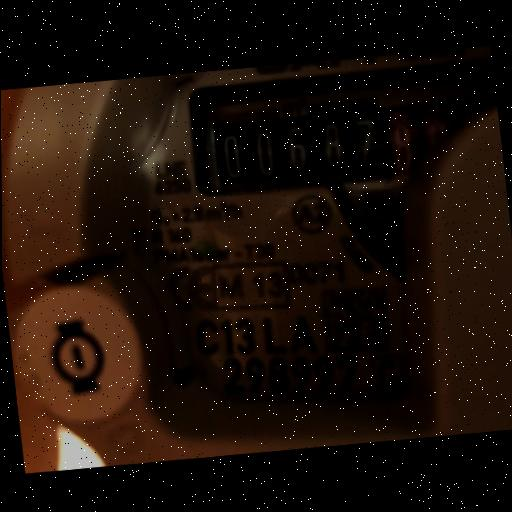0: (244, 117, 286, 192), (214, 123, 253, 194), (417, 101, 459, 157)
6: (276, 114, 320, 189)
7: (345, 107, 390, 182)
8: (309, 111, 354, 184), (382, 103, 426, 177), (451, 79, 495, 130)
border_water_meter_number: (184, 54, 505, 202)
